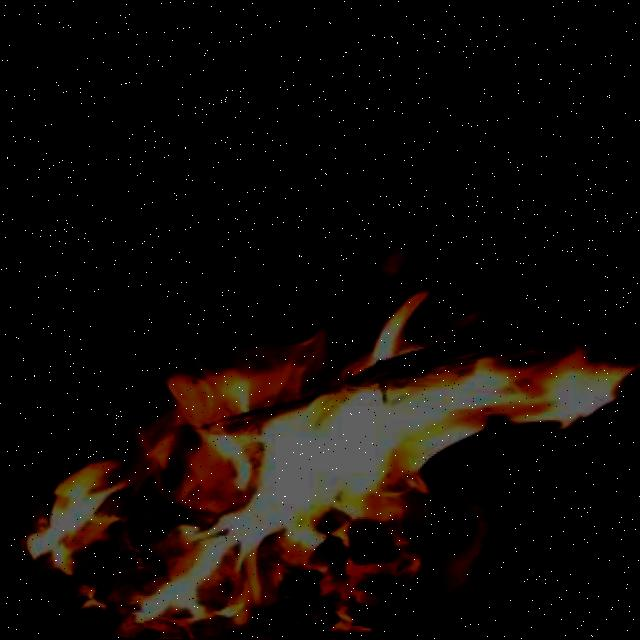Fire: (7, 233, 640, 640)
